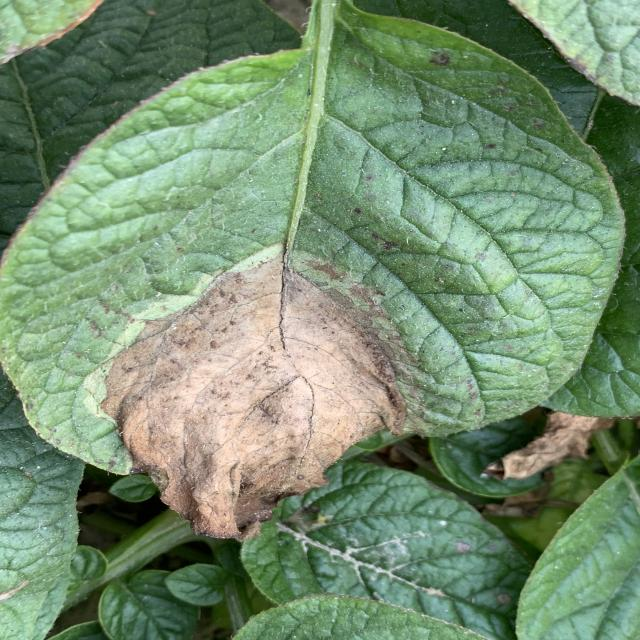lateblight: (102, 256, 405, 539)
